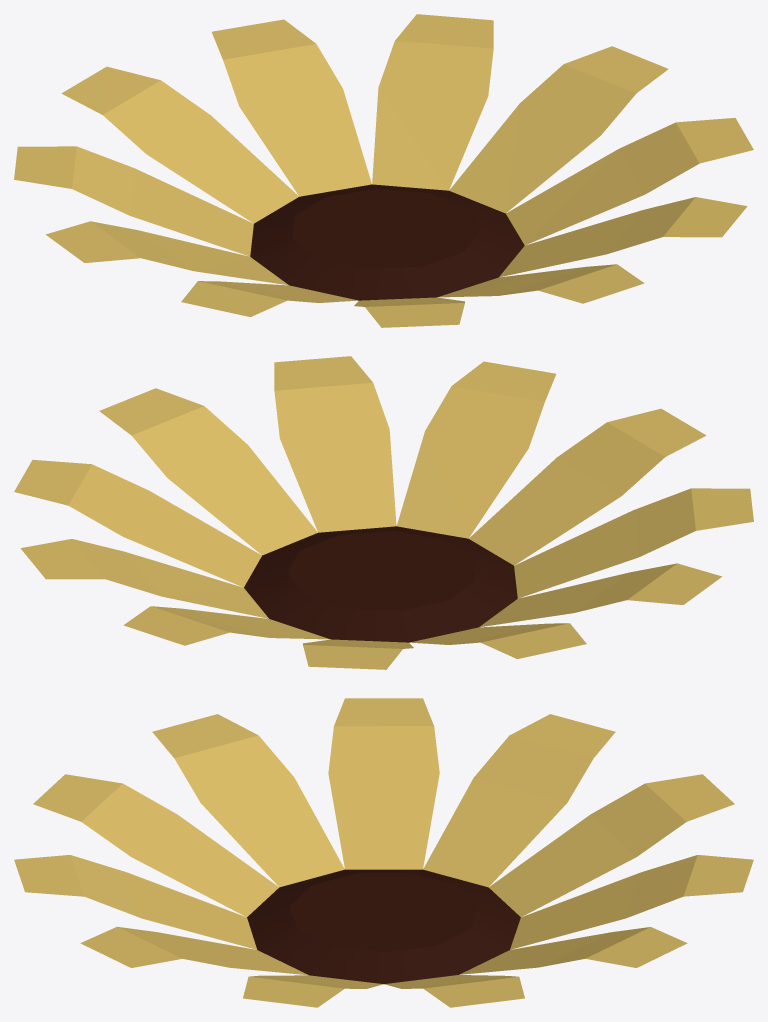
File: POUICETE.fbx
3 renders of one model, top to bottom at view 1: azimuth 30°, elevation 25°; view 2: azimuth 150°, elevation 25°; view 3: azimuth 270°, elevation 25°, orthographic.
Parts seen in each view (by area): view 1: FLEUR; view 2: FLEUR; view 3: FLEUR.
Boxes of the visible parts, <box> form: FLEUR: <box>14,14,753,327</box>; FLEUR: <box>14,356,753,669</box>; FLEUR: <box>14,698,753,1007</box>.
Size of the model in its own units: 9.42 by 1.02 by 9.52.
